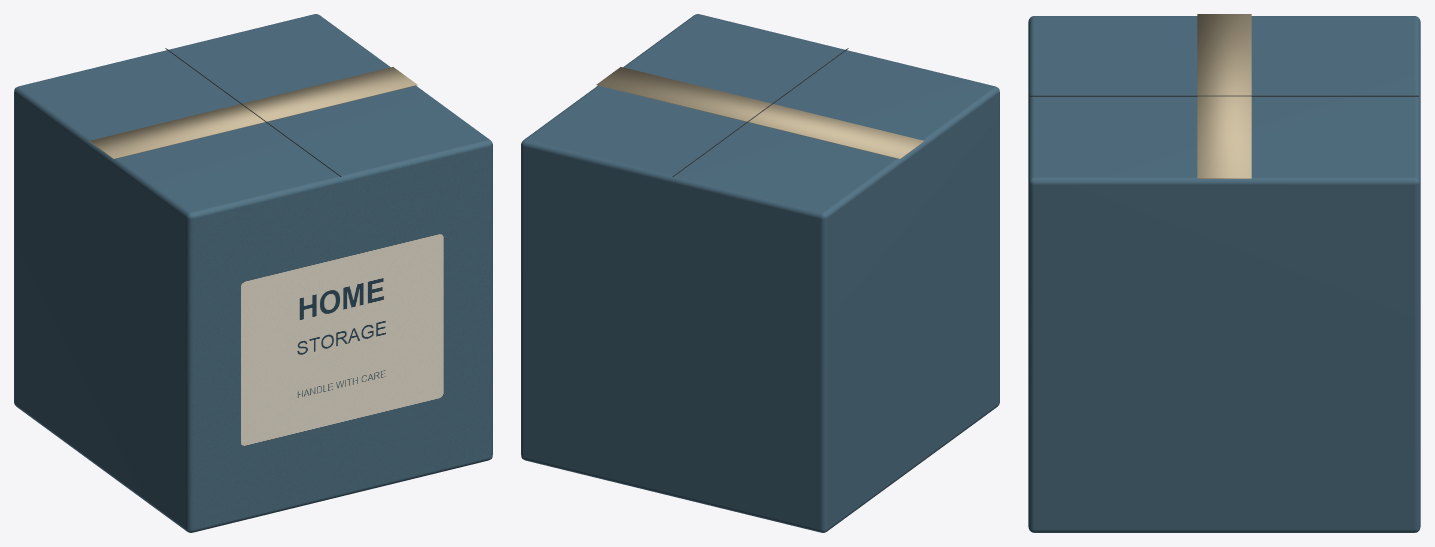
The picture shows the model from 3 angles, left to right: view 1: azimuth 30°, elevation 25°; view 2: azimuth 150°, elevation 25°; view 3: azimuth 270°, elevation 25°; orthographic projection. The views are drawn at different scales.
Visible parts, largest first — view 1: Blue storage box; view 2: Blue storage box; view 3: Blue storage box.
Part boxes in pixels (left/top/right/bottom): Blue storage box: left=14, top=14, right=492, bottom=532; Blue storage box: left=521, top=14, right=999, bottom=532; Blue storage box: left=1028, top=14, right=1420, bottom=532.
Bounding box in the file's own units: 0.13 × 0.1304 × 0.13.
Materials: 4 (1 with a texture image).
